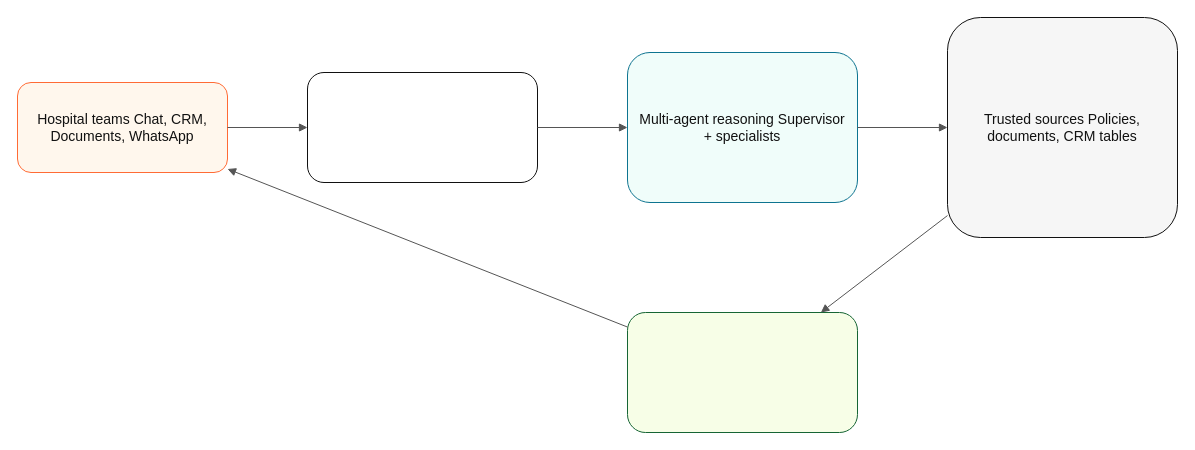
Image size: 1195x450. Some labels were removed from this diagram. The box of each missing label's shape, as (x1, y1, x2, y2) in pixels:
Grounded answers Citations, role-based access, audit trail: (626, 312, 858, 432)
Healthcare knowledge app One governed front door: (306, 72, 538, 182)
